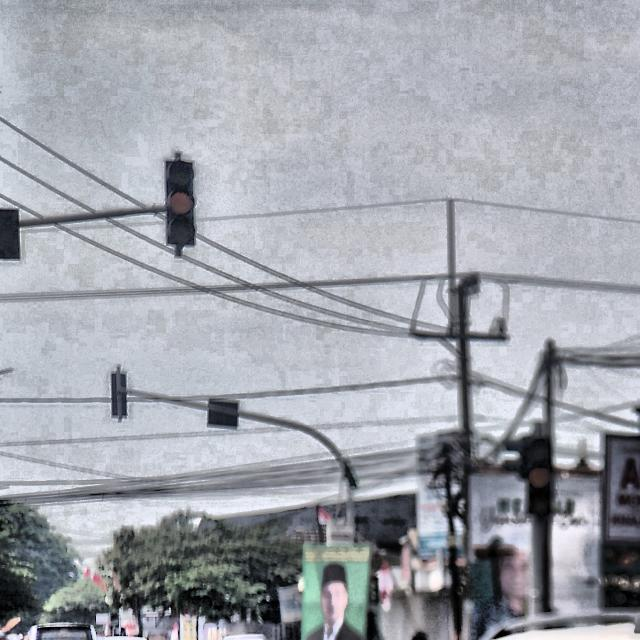yellow: (164, 158, 201, 247), (526, 436, 555, 516)
